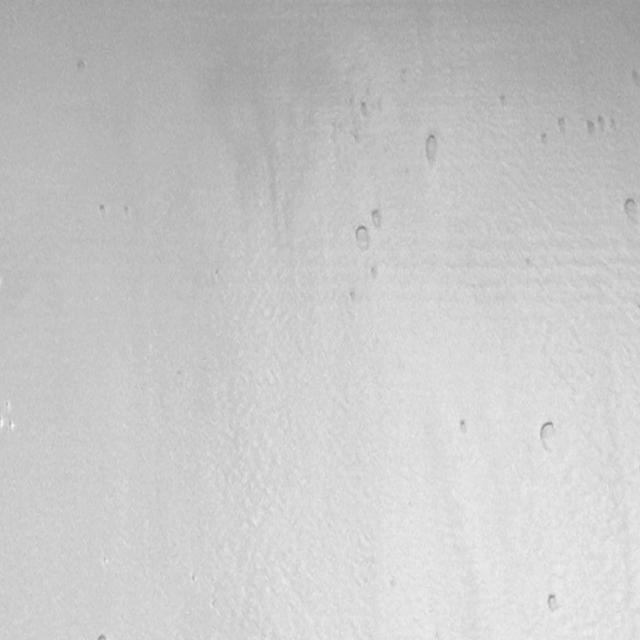pin holes: (419, 132, 442, 170), (536, 419, 561, 453), (620, 194, 639, 226), (588, 116, 612, 141), (545, 591, 565, 618), (554, 116, 574, 142), (354, 224, 370, 253), (457, 416, 474, 437), (584, 118, 600, 140), (596, 109, 612, 129), (358, 97, 373, 118), (371, 206, 383, 230), (628, 67, 640, 91), (75, 58, 89, 76), (368, 264, 382, 282), (539, 130, 553, 147), (346, 289, 360, 306), (97, 202, 110, 220), (499, 92, 511, 109), (122, 203, 134, 219), (5, 417, 17, 432), (96, 630, 111, 639)
